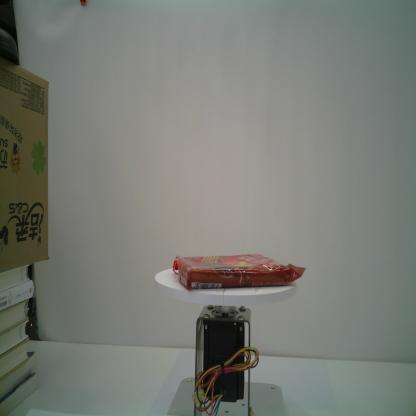Dessert: (172, 254, 307, 291)
